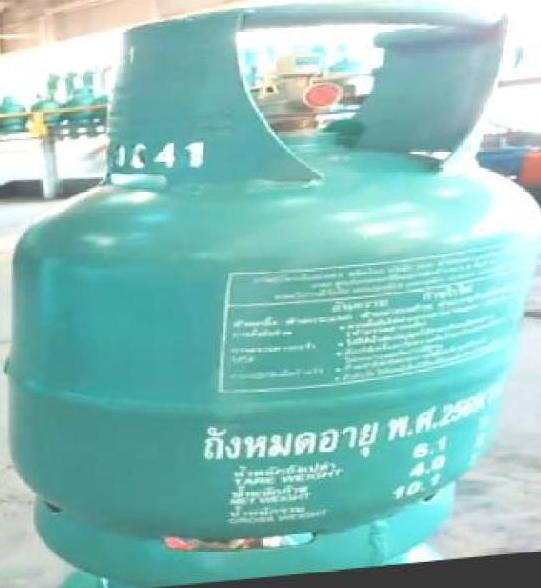cylinder: (1, 0, 541, 588)
